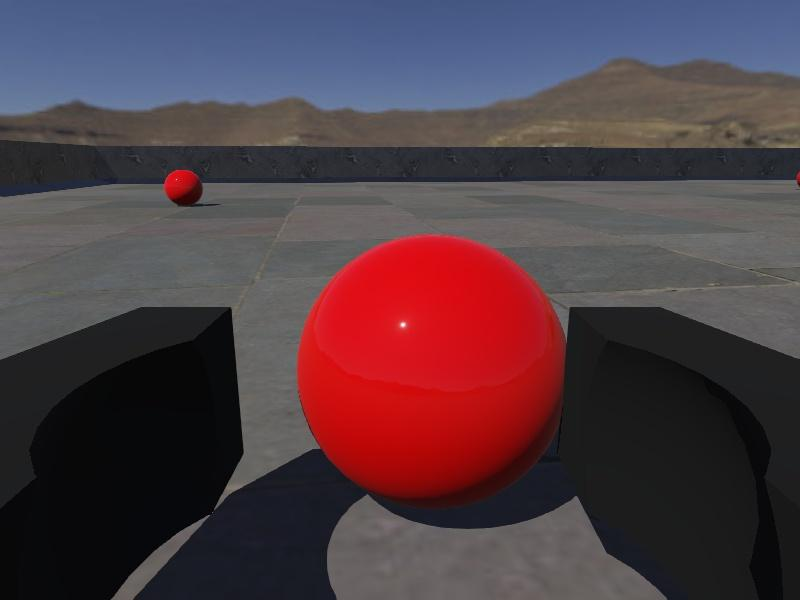red ball: (295, 233, 568, 511), (162, 168, 204, 207)
